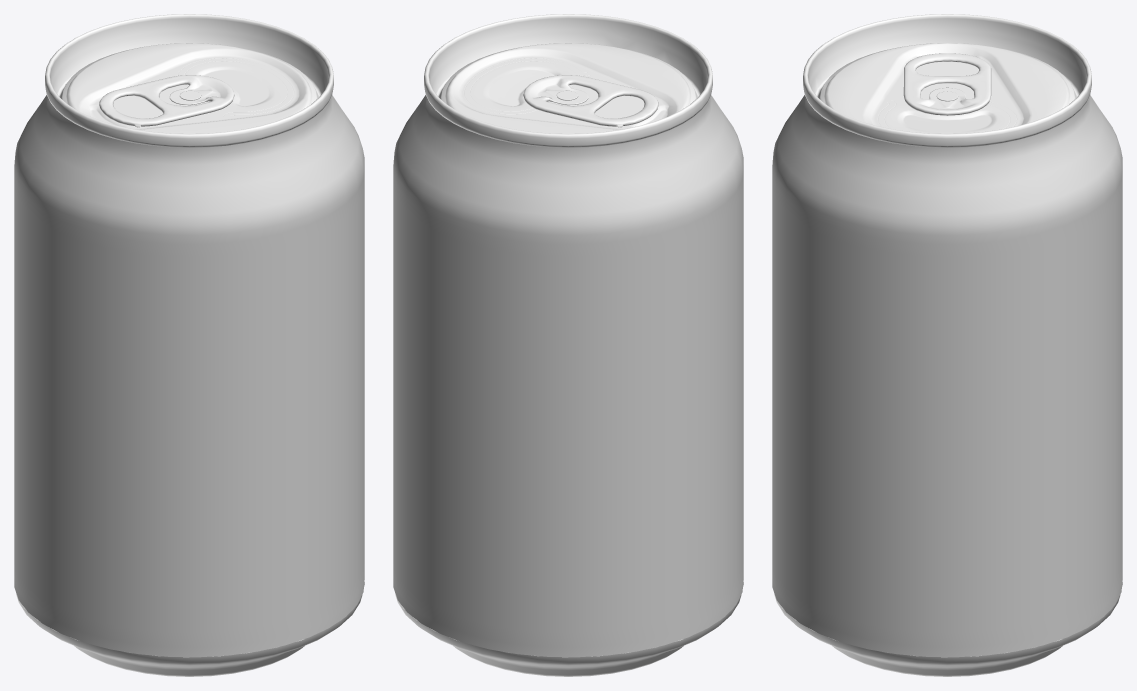
File: can_blank_grey.glb
3 views of the same model, side by side, from view 1: azimuth 30°, elevation 25°; view 2: azimuth 150°, elevation 25°; view 3: azimuth 270°, elevation 25° (orthographic).
Visible parts, largest first — view 1: Aluminum_Standard_Can_330ml_v_2, Aluminum_Standard_Can_330ml_v_2.1, Aluminum_Standard_Can_330ml_v_2.2; view 2: Aluminum_Standard_Can_330ml_v_2, Aluminum_Standard_Can_330ml_v_2.1, Aluminum_Standard_Can_330ml_v_2.2; view 3: Aluminum_Standard_Can_330ml_v_2, Aluminum_Standard_Can_330ml_v_2.1, Aluminum_Standard_Can_330ml_v_2.2.
Boxes of the visible parts, x1,y1,x2,y2 form: Aluminum_Standard_Can_330ml_v_2: (14, 95, 364, 657); Aluminum_Standard_Can_330ml_v_2.1: (45, 14, 333, 147); Aluminum_Standard_Can_330ml_v_2.2: (16, 582, 364, 676); Aluminum_Standard_Can_330ml_v_2: (393, 95, 743, 657); Aluminum_Standard_Can_330ml_v_2.1: (424, 14, 712, 147); Aluminum_Standard_Can_330ml_v_2.2: (395, 582, 743, 676); Aluminum_Standard_Can_330ml_v_2: (772, 95, 1122, 657); Aluminum_Standard_Can_330ml_v_2.1: (803, 14, 1091, 147); Aluminum_Standard_Can_330ml_v_2.2: (774, 582, 1122, 676).
Bounding box in the file's own units: 66 × 114 × 66.
2 materials, 1 textured.
